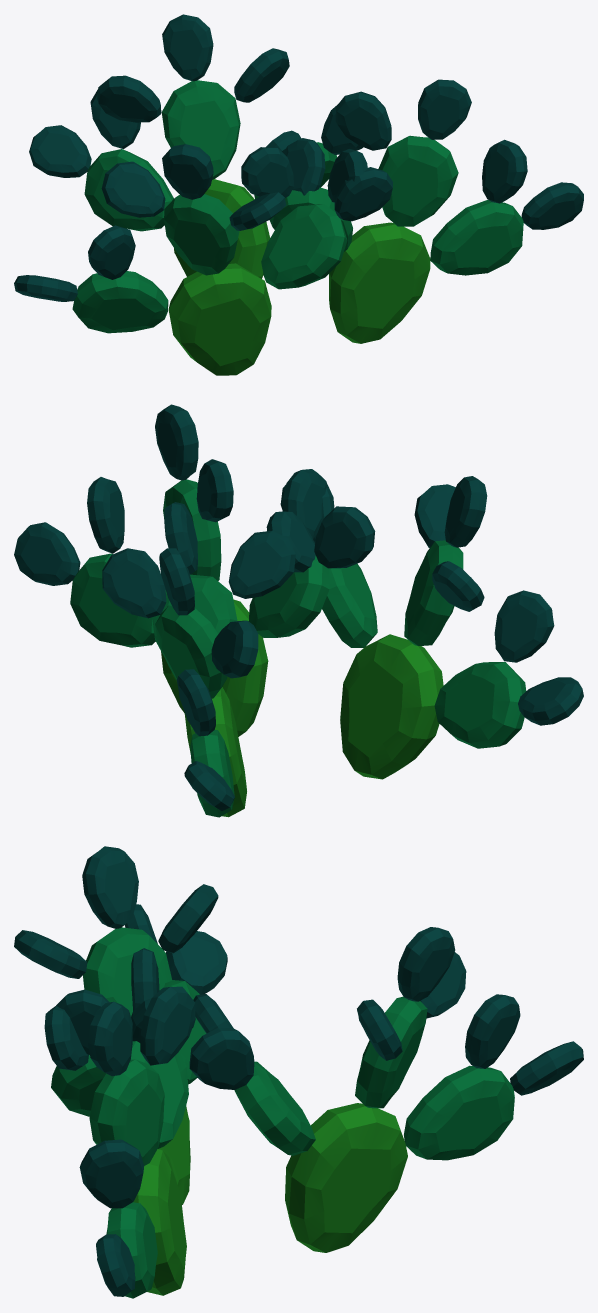
Rendered from SM__Prickly__Pear__Growth__2.fbx.
The picture shows the model from 3 angles, top to bottom: view 1: azimuth 30°, elevation 25°; view 2: azimuth 150°, elevation 25°; view 3: azimuth 270°, elevation 25°; orthographic projection. The views are drawn at different scales.
Parts seen in each view (by area): view 1: normal12; view 2: normal12; view 3: normal12.
Boxes of the visible parts, x1=… form: normal12: x1=14, y1=14, x2=583, y2=375; normal12: x1=14, y1=404, x2=583, y2=817; normal12: x1=14, y1=846, x2=583, y2=1298.
Size of the model in its own units: 2.71 by 1.28 by 2.05.
